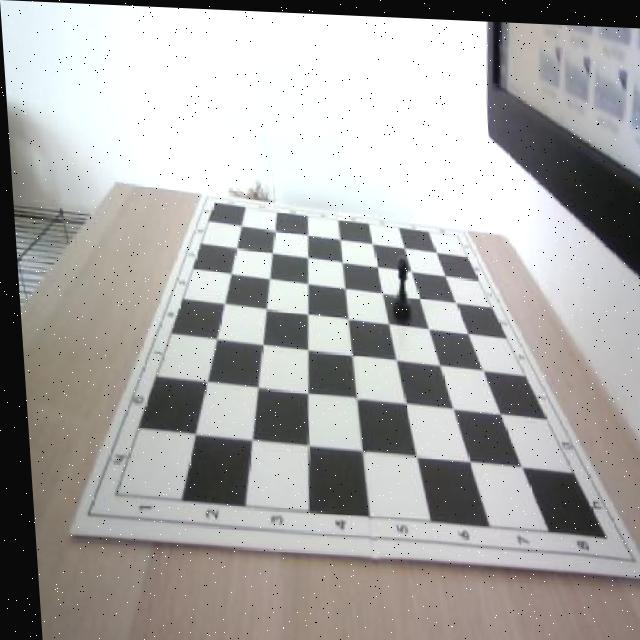black-knight: (387, 253, 409, 316)
